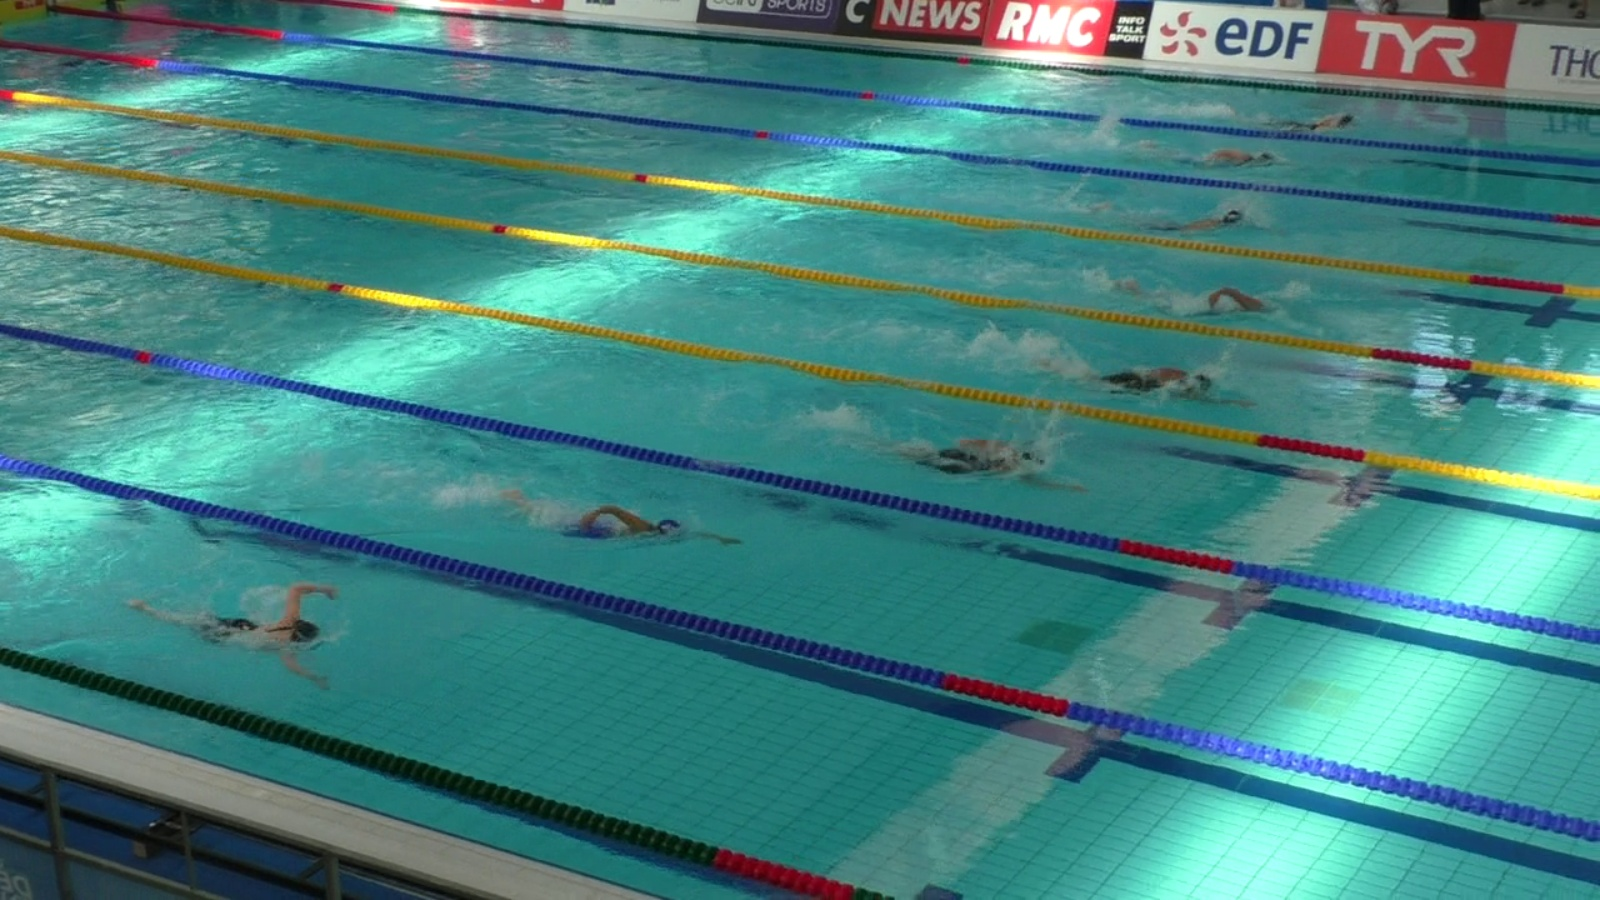swimmerw: (127, 581, 349, 691), (499, 487, 749, 547), (1034, 351, 1262, 408), (871, 435, 1097, 492), (1103, 271, 1286, 327), (1087, 204, 1289, 244), (1131, 145, 1284, 177), (1247, 108, 1367, 133)
